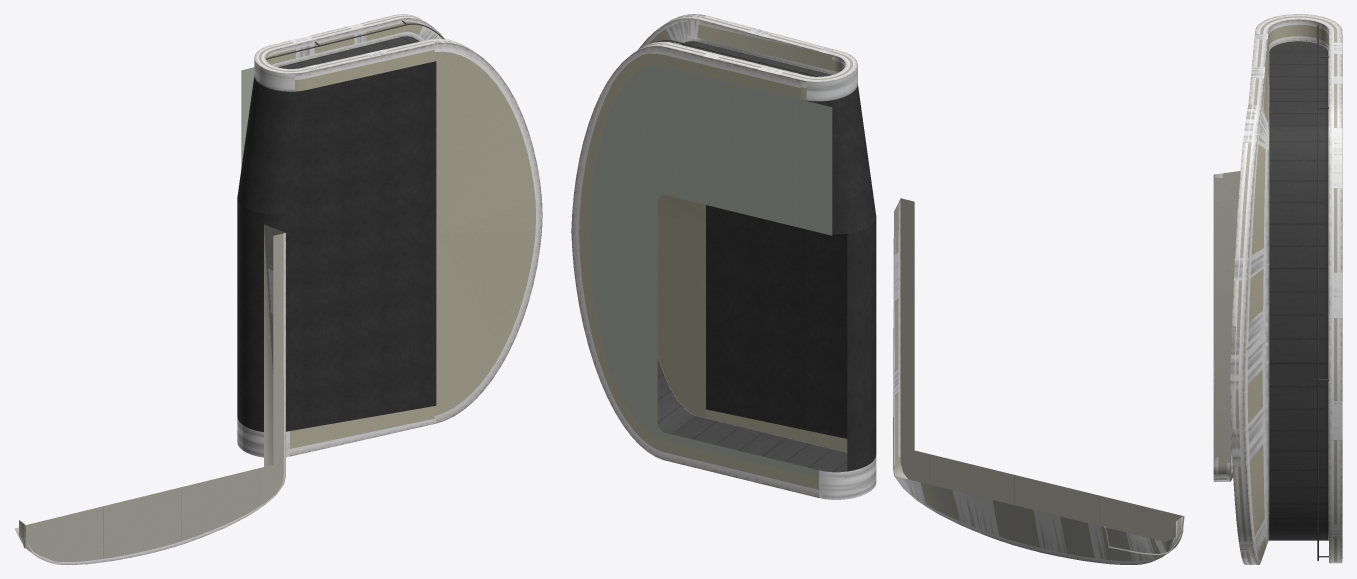
The model's file is nt_2020_house_small_roof_shell_LOD0.obj.
The picture shows the model from 3 angles, left to right: view 1: azimuth 30°, elevation 25°; view 2: azimuth 150°, elevation 25°; view 3: azimuth 270°, elevation 25°; orthographic projection. The views are drawn at different scales.
Visible parts, largest first — view 1: jun_art_metal_black, hjk_interior_plastic_tile_02, hjk_interior_plastic_tile, decal_damage_wall_fillet, decal_grunge_metal_leak, facade_glass_window_01_gray, plastic_panel_off_white; view 2: plastic_panel_off_white, jun_art_metal_black, hjk_interior_plastic_tile_02, hjk_interior_plastic_tile, decal_damage_wall_fillet, decal_grunge_metal_leak, facade_glass_window_01_gray; view 3: facade_glass_window_01_gray, decal_damage_wall_fillet, hjk_interior_plastic_tile, decal_grunge_metal_leak, hjk_interior_plastic_tile_02, plastic_panel_off_white, metal_chrome_boat.
Boxes of the visible parts, x1,y1,x2,y2 form: jun_art_metal_black: (237, 61, 436, 431); hjk_interior_plastic_tile_02: (266, 21, 535, 448); hjk_interior_plastic_tile: (14, 15, 433, 561); decal_damage_wall_fillet: (18, 14, 542, 564); decal_grunge_metal_leak: (237, 18, 471, 457); facade_glass_window_01_gray: (278, 36, 419, 68); plastic_panel_off_white: (23, 36, 418, 548); plastic_panel_off_white: (590, 40, 1184, 555); jun_art_metal_black: (706, 84, 876, 471); hjk_interior_plastic_tile_02: (579, 24, 875, 489); hjk_interior_plastic_tile: (642, 17, 1182, 561); decal_damage_wall_fillet: (571, 15, 1183, 564); decal_grunge_metal_leak: (633, 14, 1166, 563); facade_glass_window_01_gray: (657, 41, 847, 472); facade_glass_window_01_gray: (1269, 41, 1328, 540); decal_damage_wall_fillet: (1213, 14, 1342, 564); hjk_interior_plastic_tile: (1214, 16, 1337, 564); decal_grunge_metal_leak: (1213, 34, 1342, 563); hjk_interior_plastic_tile_02: (1247, 24, 1328, 560); plastic_panel_off_white: (1268, 40, 1328, 540); metal_chrome_boat: (1317, 24, 1328, 560).
Bounding box in the file's own units: 2193 × 1704 × 391.
